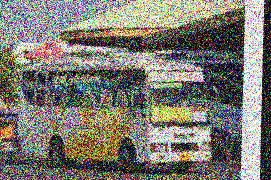bus: (18, 54, 213, 174)
